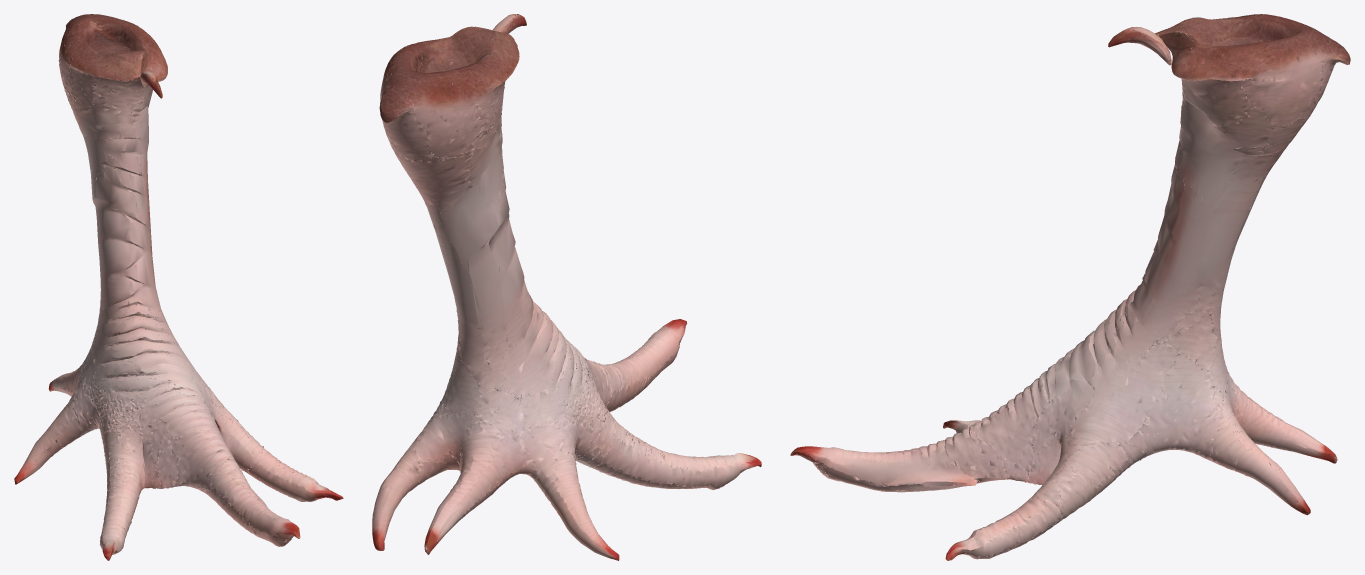
The model's file is ChickenLeg.glb.
3 views of the same model, side by side, from view 1: azimuth 30°, elevation 25°; view 2: azimuth 150°, elevation 25°; view 3: azimuth 270°, elevation 25° (orthographic). The views are drawn at different scales.
Parts seen in each view (by area): view 1: node_0; view 2: node_0; view 3: node_0.
Part boxes in pixels (x1=…): node_0: x1=14, y1=14, x2=343, y2=560; node_0: x1=372, y1=14, x2=761, y2=560; node_0: x1=790, y1=14, x2=1350, y2=560.
Bounding box in the file's own units: 0.5311 × 0.8769 × 0.9105.
1 material, 1 textured.
